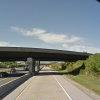Bridge: (2, 38, 86, 70)
